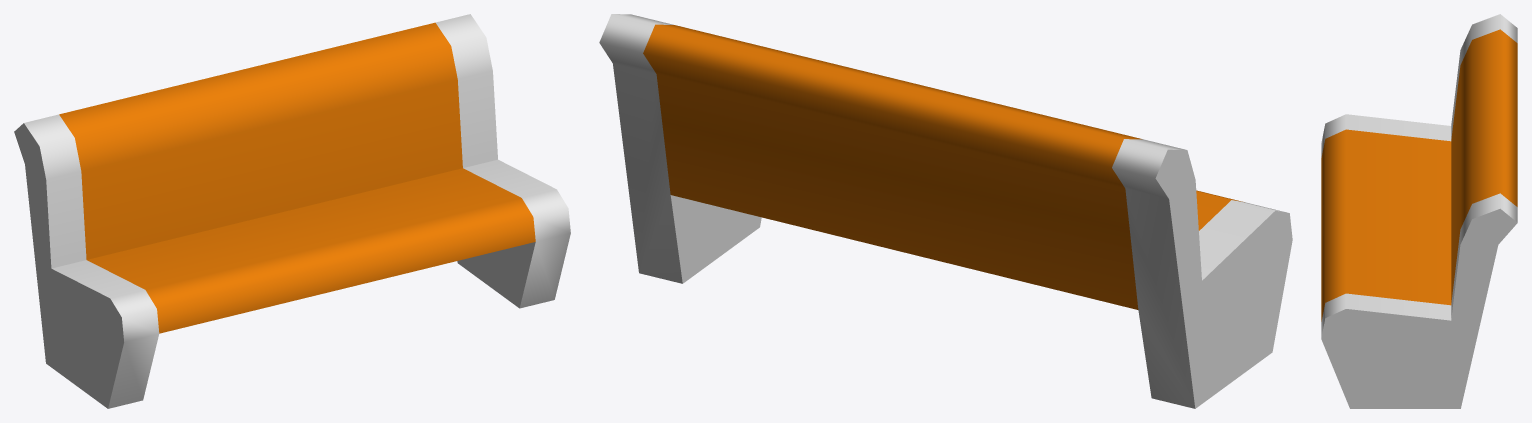
Rendered from bench.fbx.
3 renders of one model, left to right at view 1: azimuth 30°, elevation 25°; view 2: azimuth 150°, elevation 25°; view 3: azimuth 270°, elevation 25°, orthographic. The views are drawn at different scales.
Visible parts, largest first — view 1: bench; view 2: bench; view 3: bench.
Part boxes in pixels (box(x1,y1,x2,y2)): bench: box(14, 14, 570, 408); bench: box(599, 14, 1292, 408); bench: box(1321, 14, 1517, 408).
Size of the model in its own units: 299 by 144 by 128.
